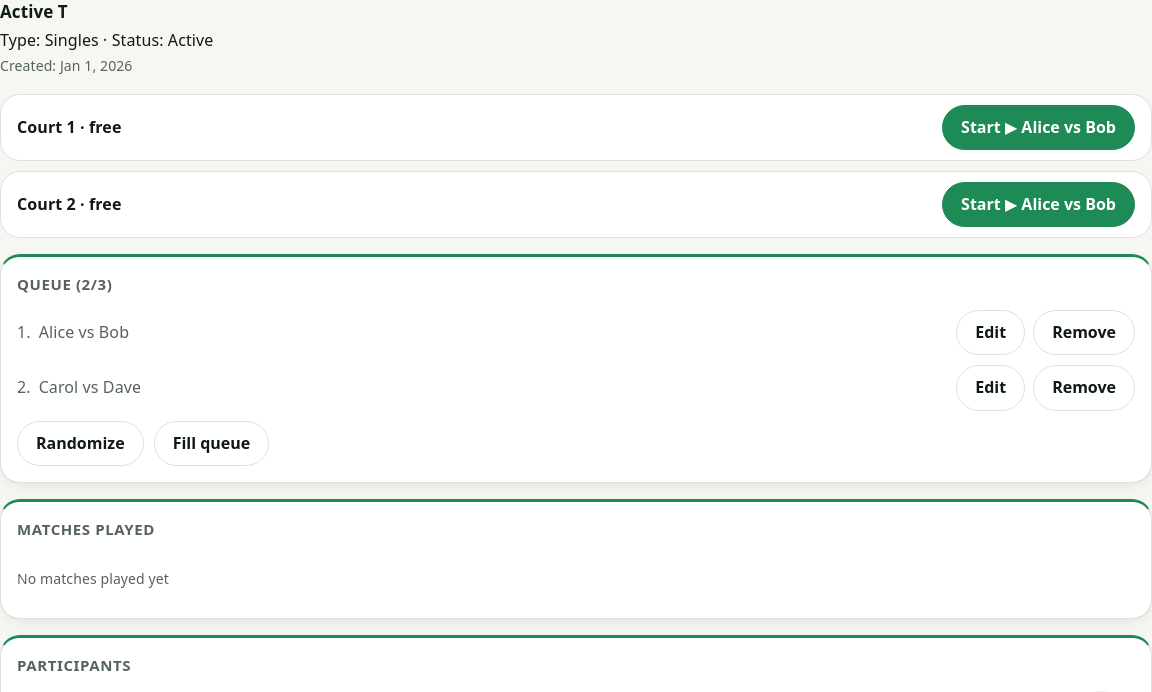
TournamentDetail: Queue (Randomize / Fill queue / Remove) › Fill queue only draws the missing slots
Click the button "Fill queue". click: click(211, 443)
box: [154,421,269,466]
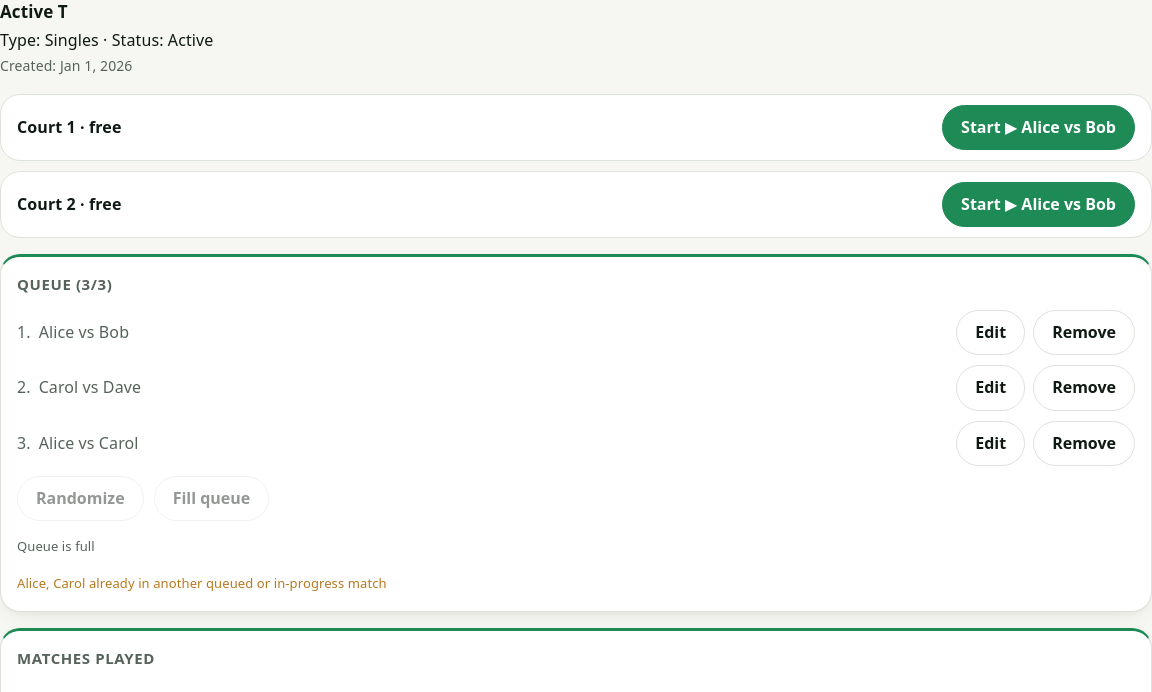
Result: the heading "Queue (3/3)" is shown at [17,274,112,294]
